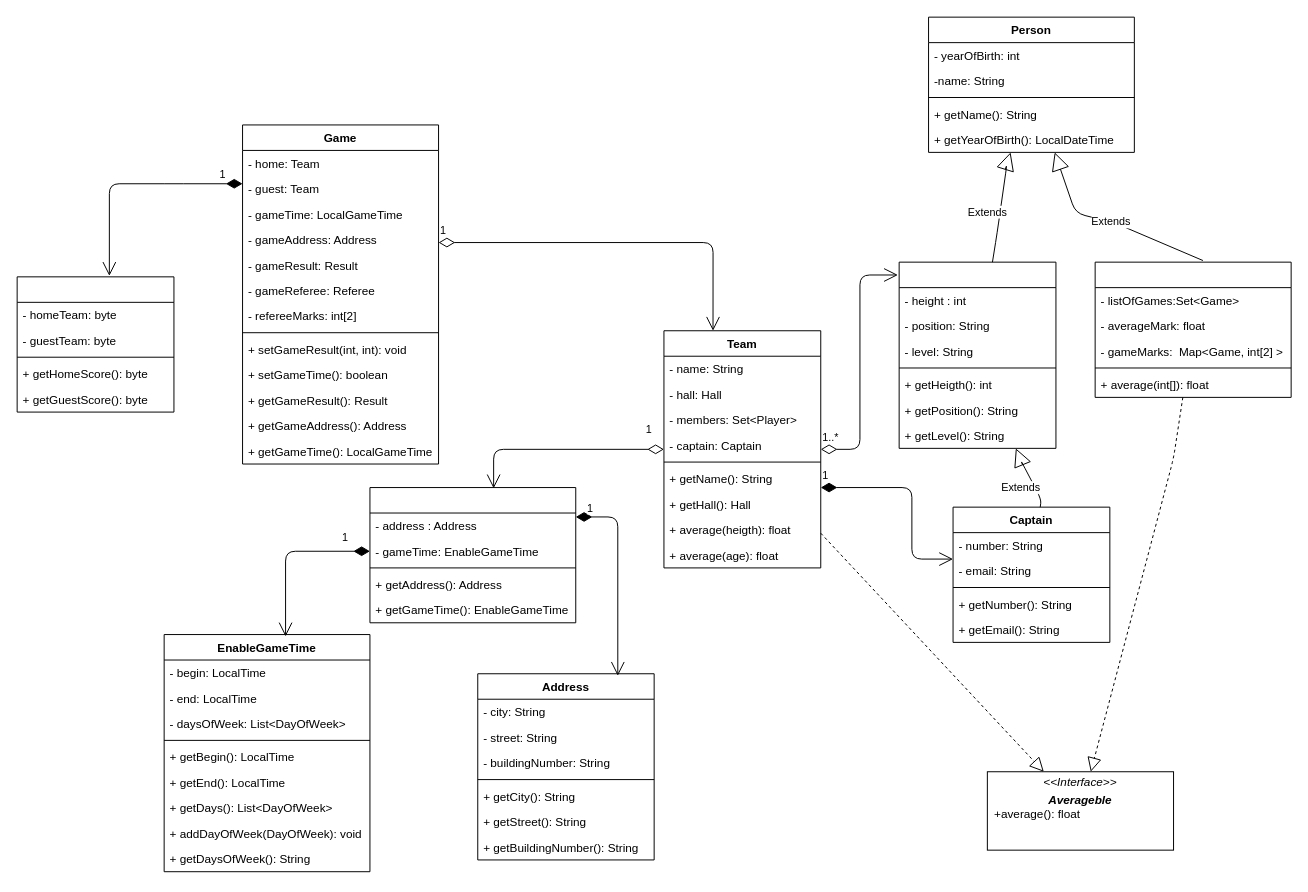
The diagram is 1308 pixels wide and 892 high, and some of its shapes have lost their labels. The shapes that lost their labels are listed below. From the top down, each one's box as (x1, y1, x2, y2) in pixels, then its label:
(16, 276, 174, 412): Result
(1094, 261, 1291, 397): Referee
(898, 261, 1056, 448): Player
(369, 487, 576, 623): Hall
